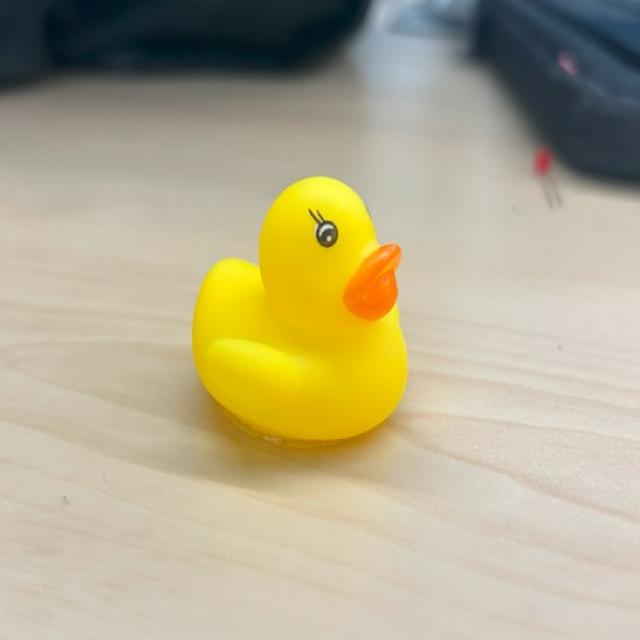duck_regular: (179, 157, 424, 479)
